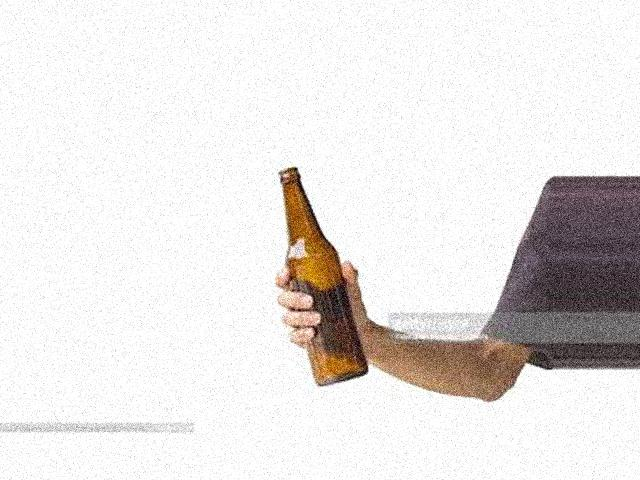beer: (279, 168, 370, 385)
